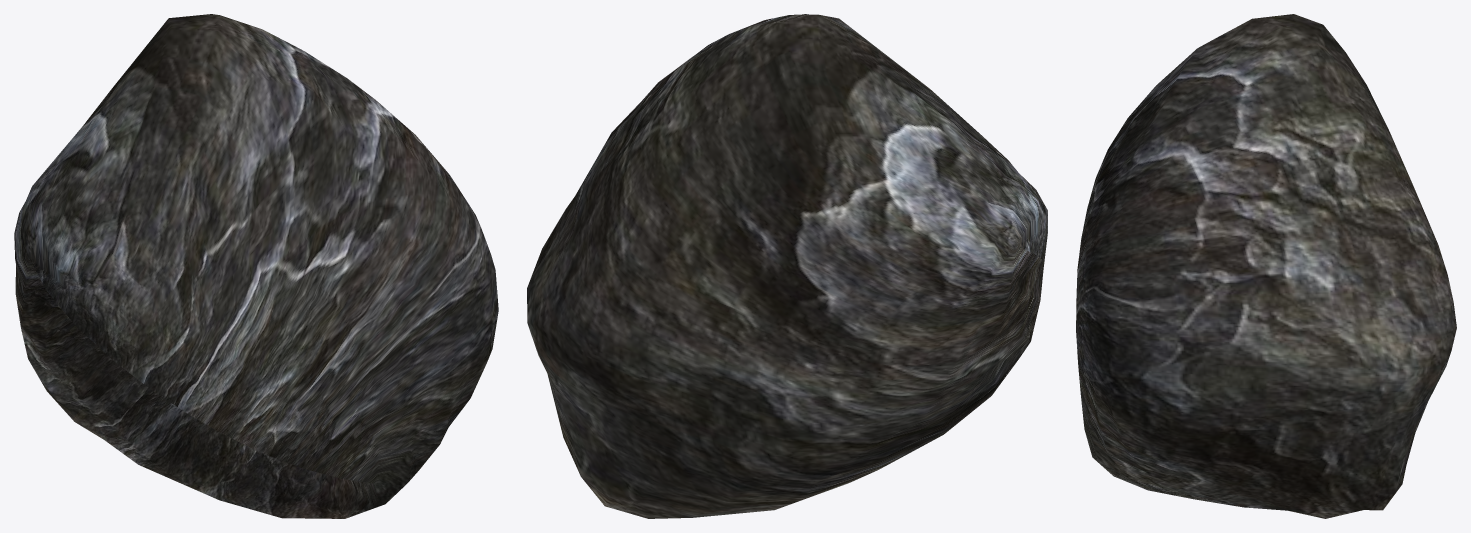
Rendered from tas1.fbx.
3 renders of one model, left to right at view 1: azimuth 30°, elevation 25°; view 2: azimuth 150°, elevation 25°; view 3: azimuth 270°, elevation 25°, orthographic. The views are drawn at different scales.
Parts seen in each view (by area): view 1: rock4; view 2: rock4; view 3: rock4.
Part boxes in pixels (<box>): rock4: <box>14,14,498,518</box>; rock4: <box>527,14,1047,518</box>; rock4: <box>1076,14,1456,518</box>.
Size of the model in its own units: 34.23 by 35.41 by 27.77.
